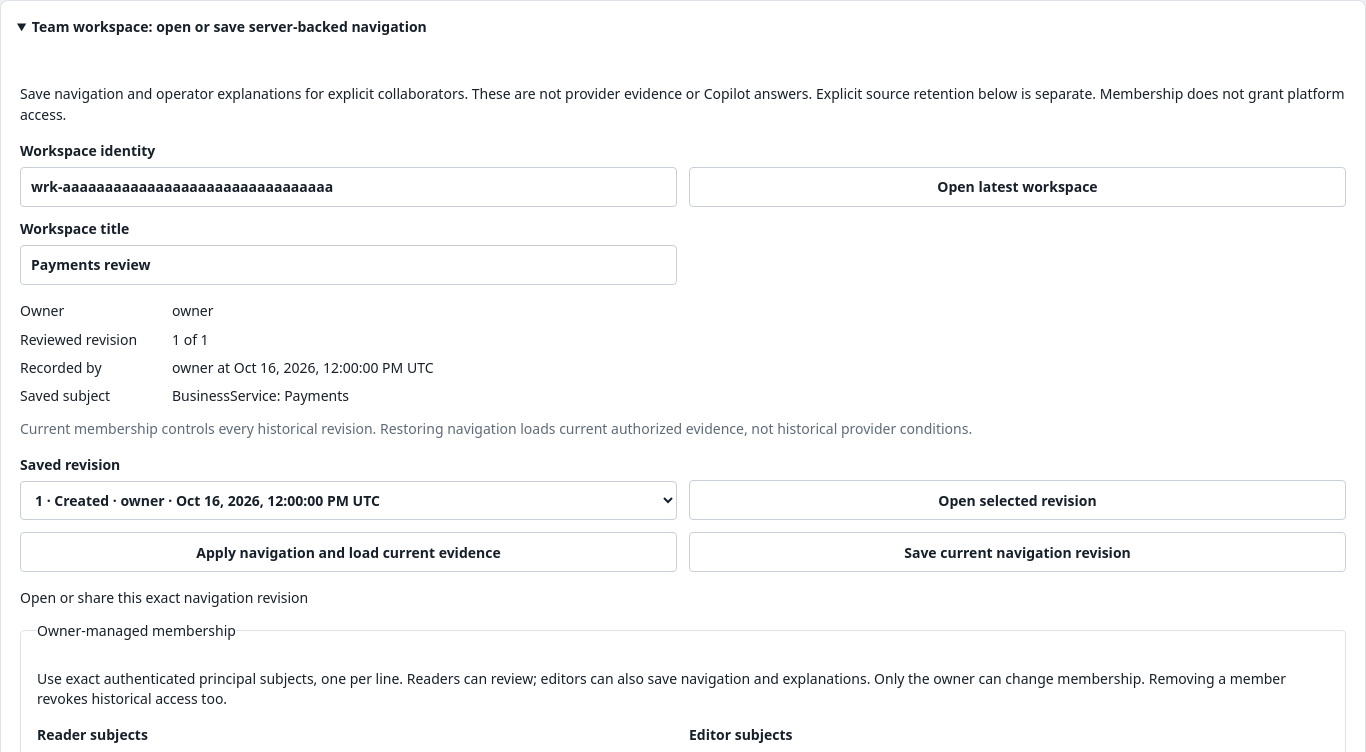
Test case: team Investigation navigation › shows storage/conflict failure without a false revision or automatic retry
Expected: the text "Saved subject" is shown, [20,386,110,405]
Click the button "Save current navigation revision" at (1018, 552), box [689,532,1346,572]
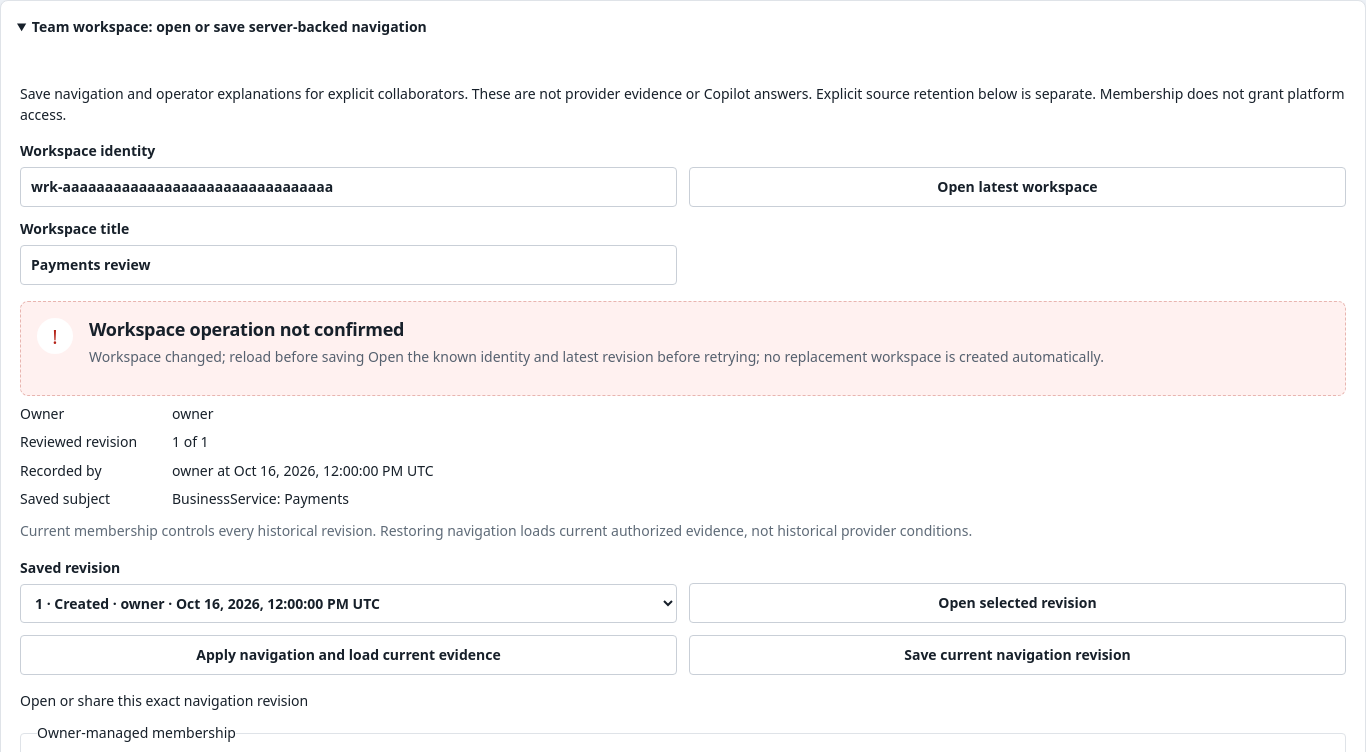
Expected: the text "1 of 1" is shown, [172,432,209,452]
Result: the heading "Workspace operation not confirmed" is shown at [89,318,404,342]
